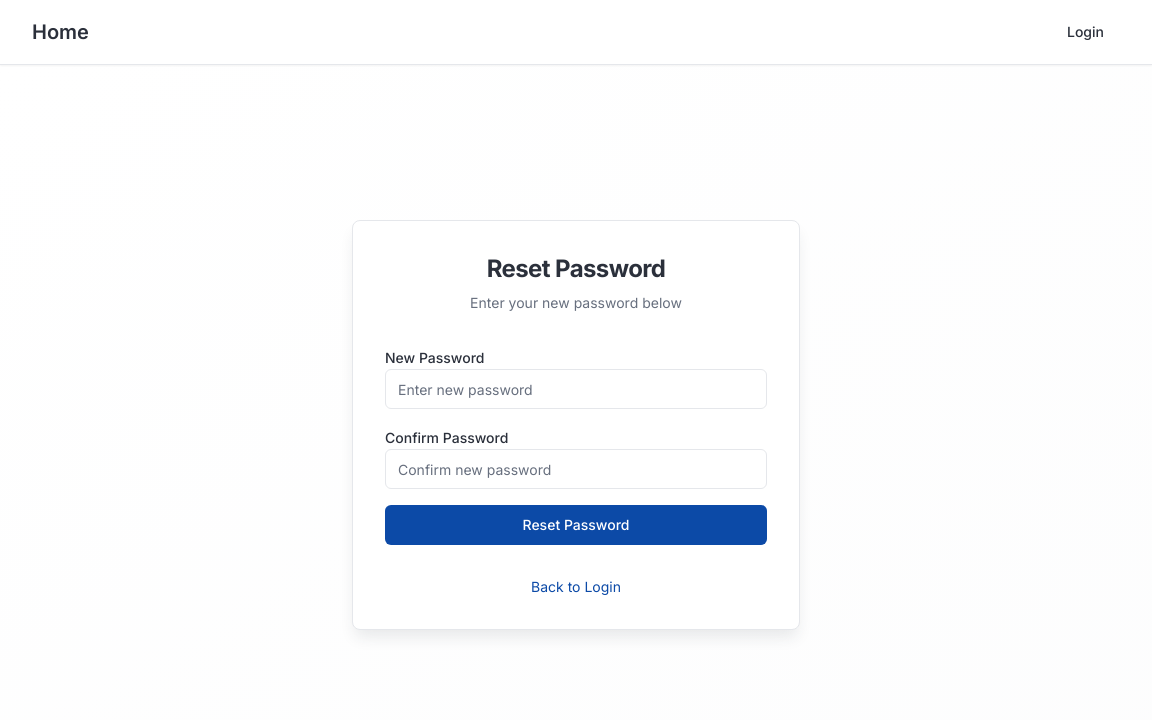
Test case: ResetPassword › should show validation error for password mismatch
In the password field labelled "New Password": [576, 389] box [385,369,767,409], type "Password123!"
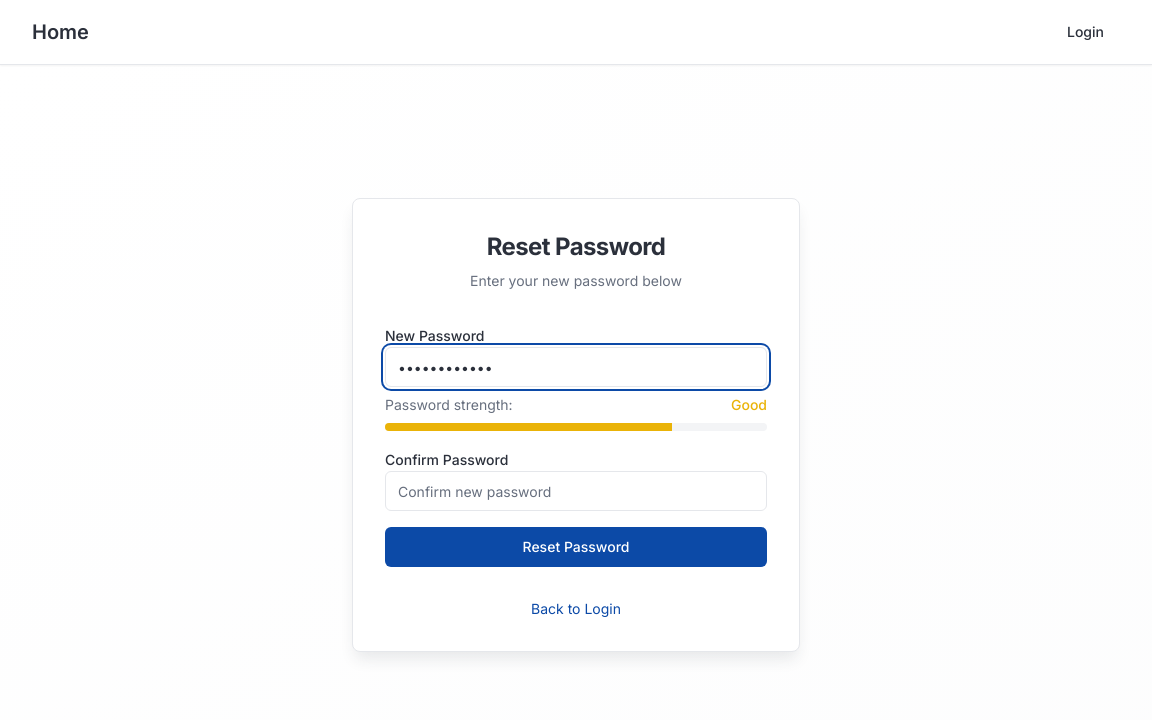
In the password field labelled "Confirm Password": [576, 491] box [385,471,767,511], type "DifferentPassword123!"
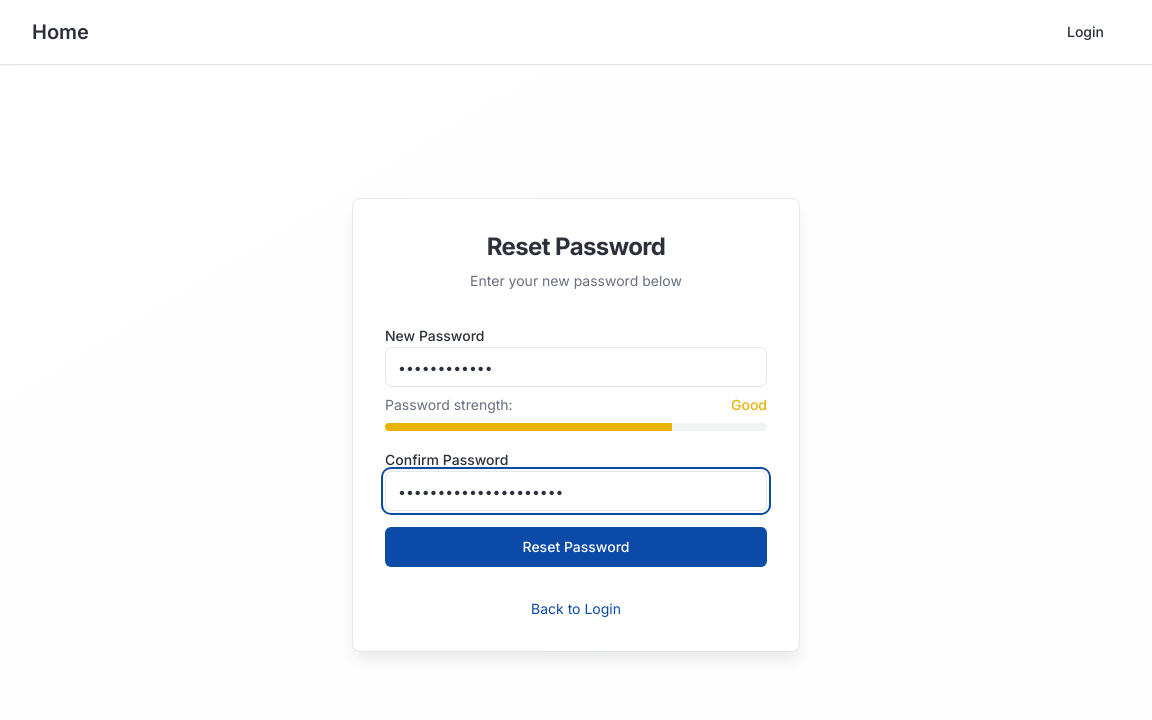
Click the button "Reset Password": [576, 547] box [385,527,767,567]
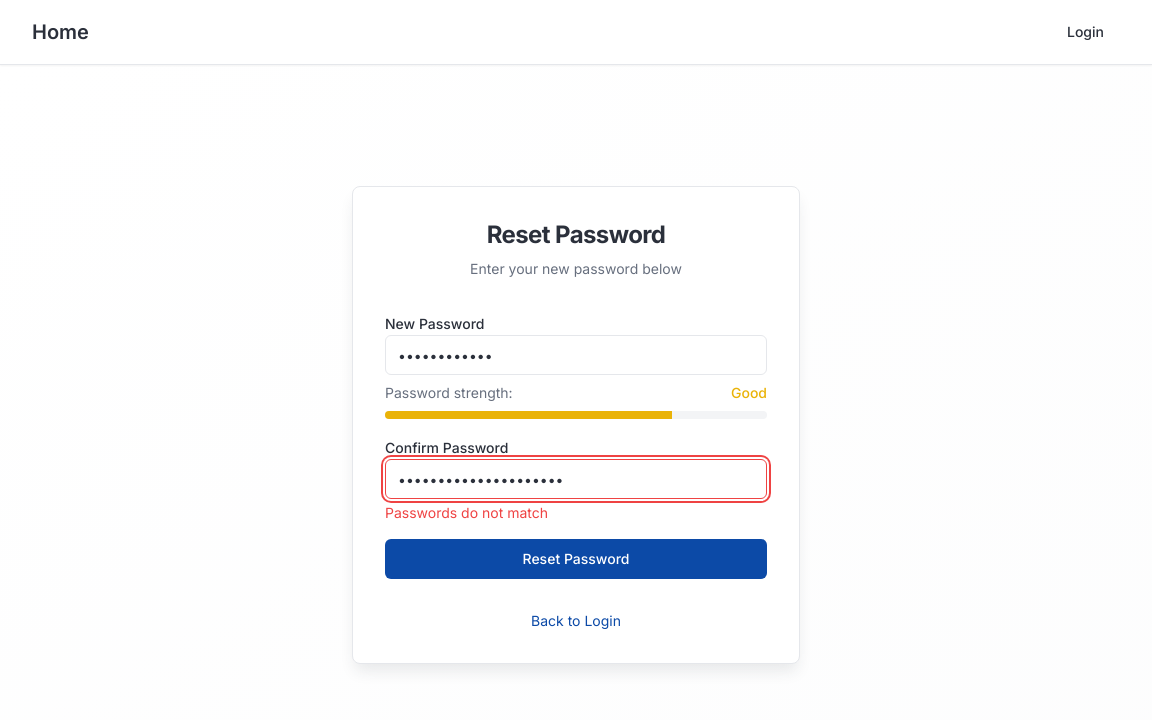
Check: the text "Passwords do not match" is shown, box [385,504,548,521]
